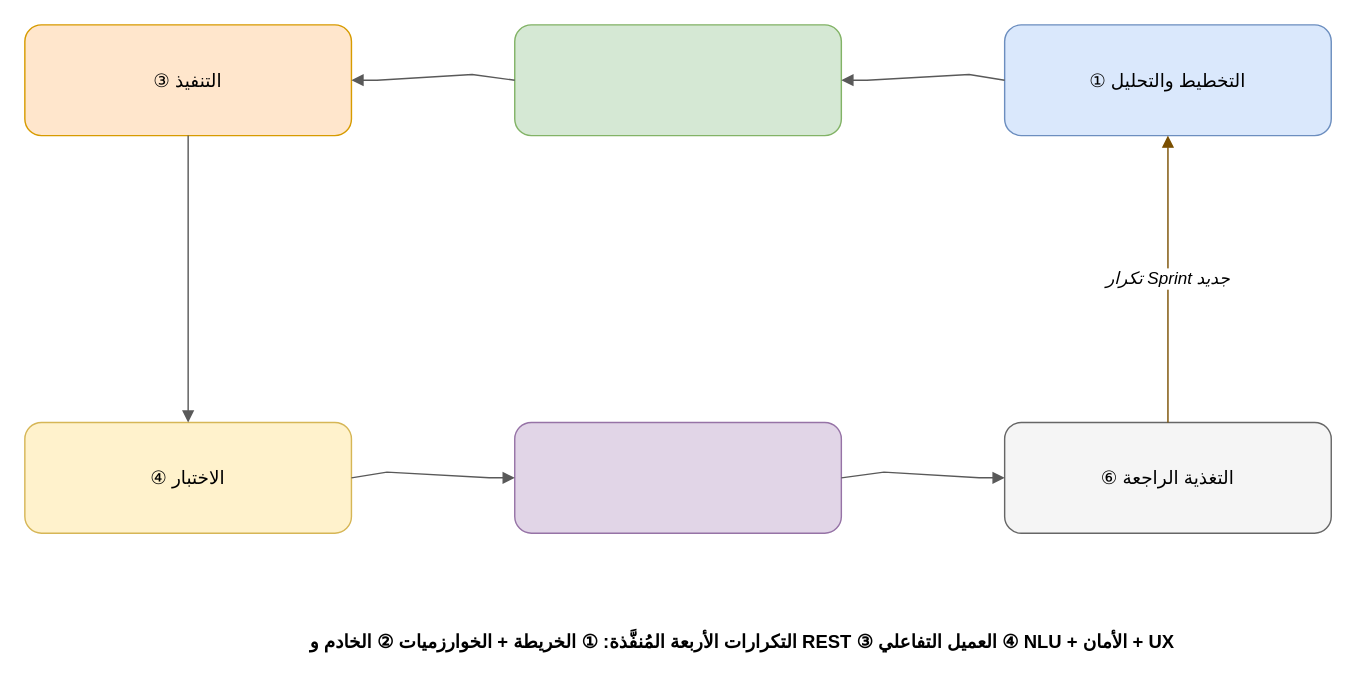
Image size: 1356x689. Some labels were removed from this diagram. Each missing label, with the box of its shape:
② التصميم: (513, 23, 841, 136)
⑤ المراجعة والدمج: (513, 421, 841, 533)
